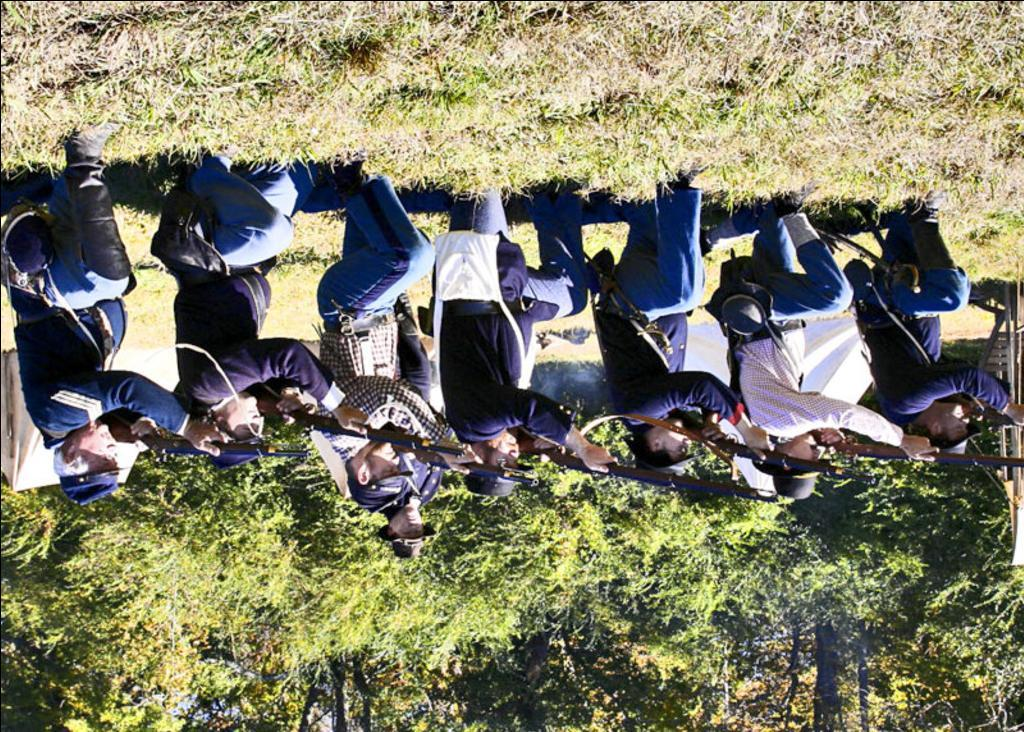gun: (520, 436, 770, 506), (275, 401, 462, 458), (817, 434, 1024, 478), (109, 414, 267, 467)
